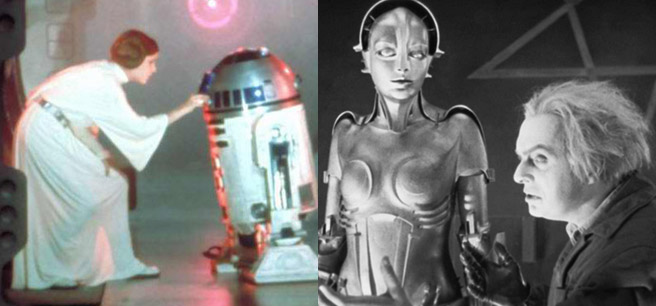r2d2: (198, 47, 318, 284)
